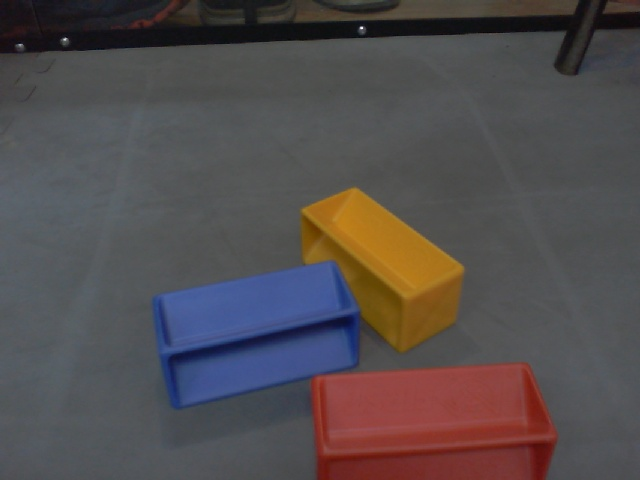BlueSample: (152, 259, 363, 410)
RedSample: (309, 361, 559, 480)
YellowSample: (297, 185, 465, 356)
